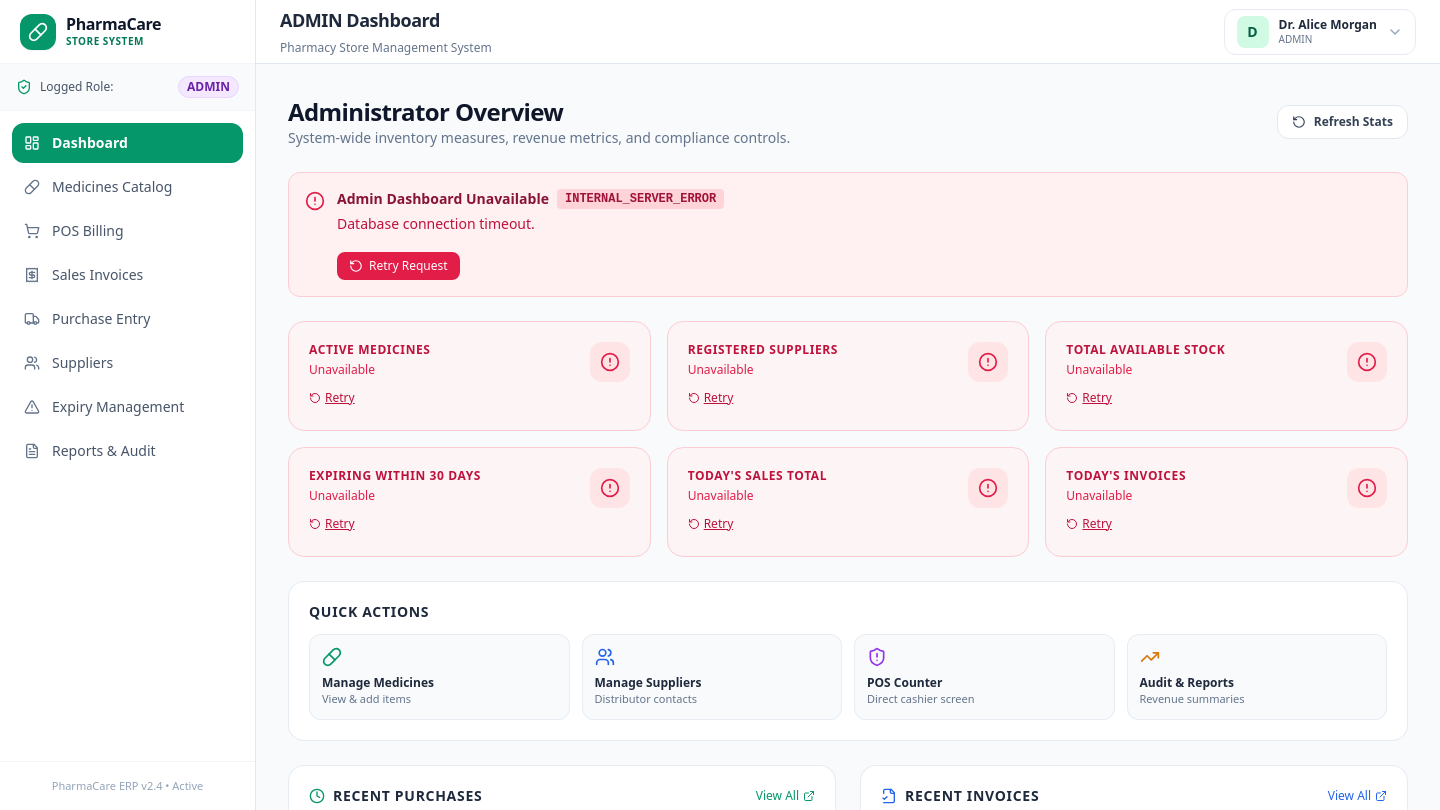
Test: Frontend Role Dashboards, Business Rules & Navigation Recovery Tests › Test 6: A failed API request clears the loading state and allows retry
Check: the element with test id "error-banner" is shown, box [288,172,1408,297]
Check: the button with test id "admin-refresh-btn" is enabled, box [1277,105,1408,139]
Note: Retry option works
Click the button with test id "error-retry-btn": coordinates (398, 266) [337,252,460,280]
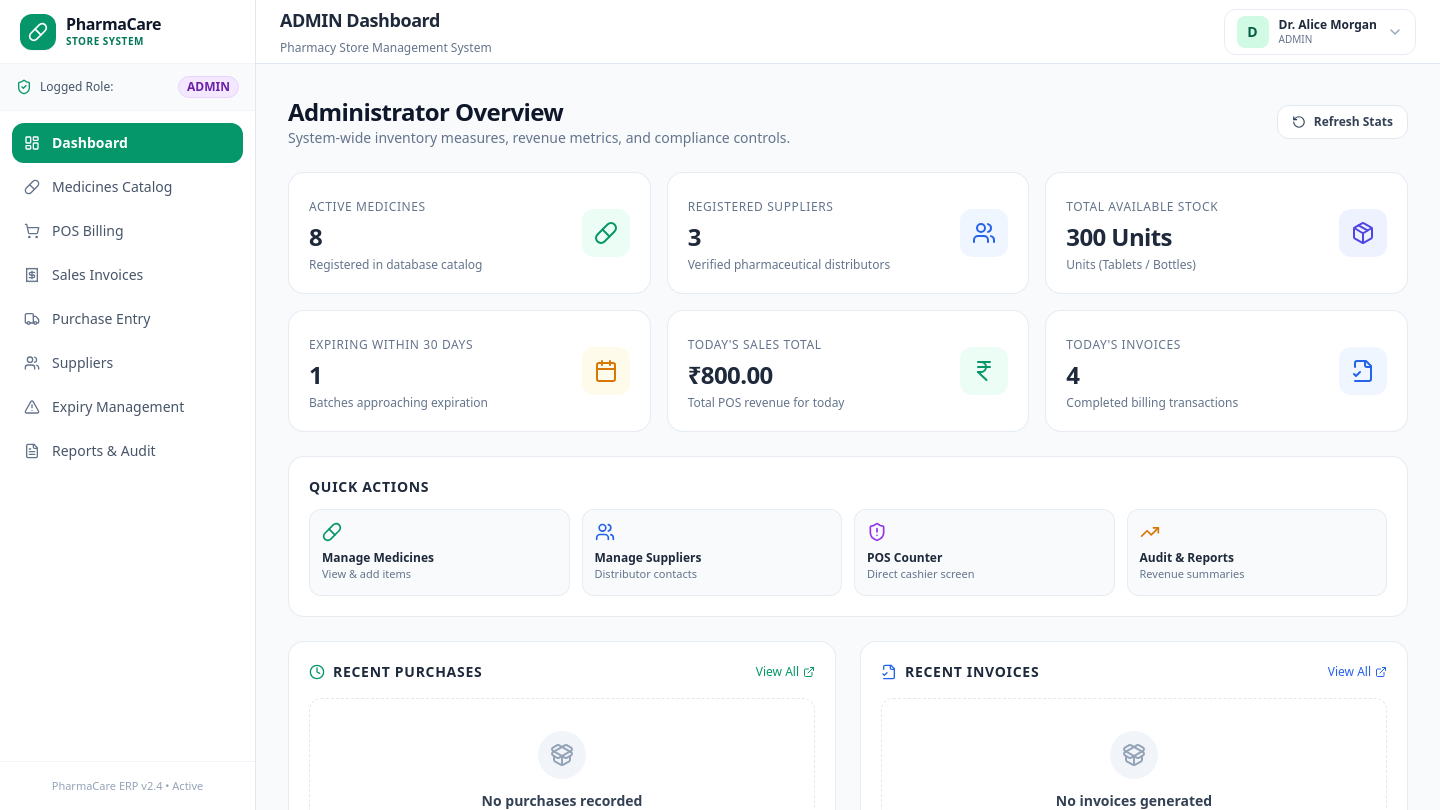
Check: the element with test id "error-banner" is gone
Check: the heading "300 Units" is shown, box [1066,220,1172,253]
